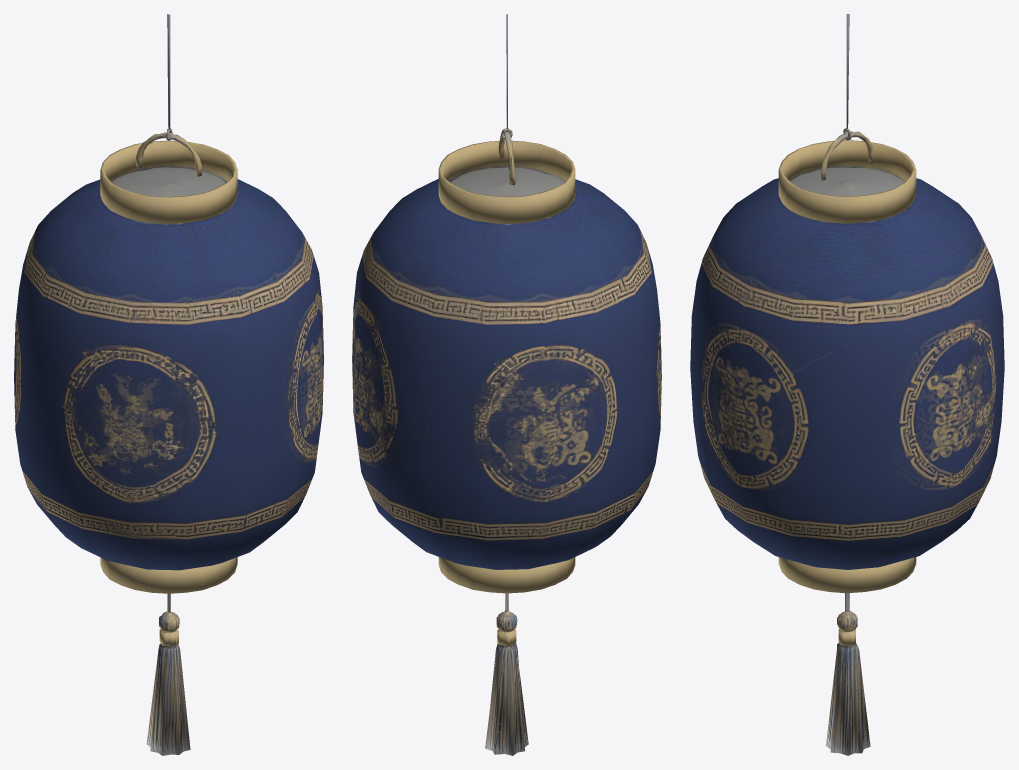
The model's file is latern3.glb.
3 renders of one model, left to right at view 1: azimuth 30°, elevation 25°; view 2: azimuth 150°, elevation 25°; view 3: azimuth 270°, elevation 25°, orthographic.
Parts seen in each view (by area): view 1: tripo_node_bcd3cf20-8270-4b0b-9421-8ab501e88181; view 2: tripo_node_bcd3cf20-8270-4b0b-9421-8ab501e88181; view 3: tripo_node_bcd3cf20-8270-4b0b-9421-8ab501e88181.
Boxes of the visible parts, x1,y1,x2,y2 form: tripo_node_bcd3cf20-8270-4b0b-9421-8ab501e88181: (14, 14, 323, 755); tripo_node_bcd3cf20-8270-4b0b-9421-8ab501e88181: (352, 14, 661, 755); tripo_node_bcd3cf20-8270-4b0b-9421-8ab501e88181: (690, 14, 1004, 755).
Bounding box in the file's own units: 0.3886 × 0.998 × 0.3886.
Materials: 1 (1 with a texture image).
